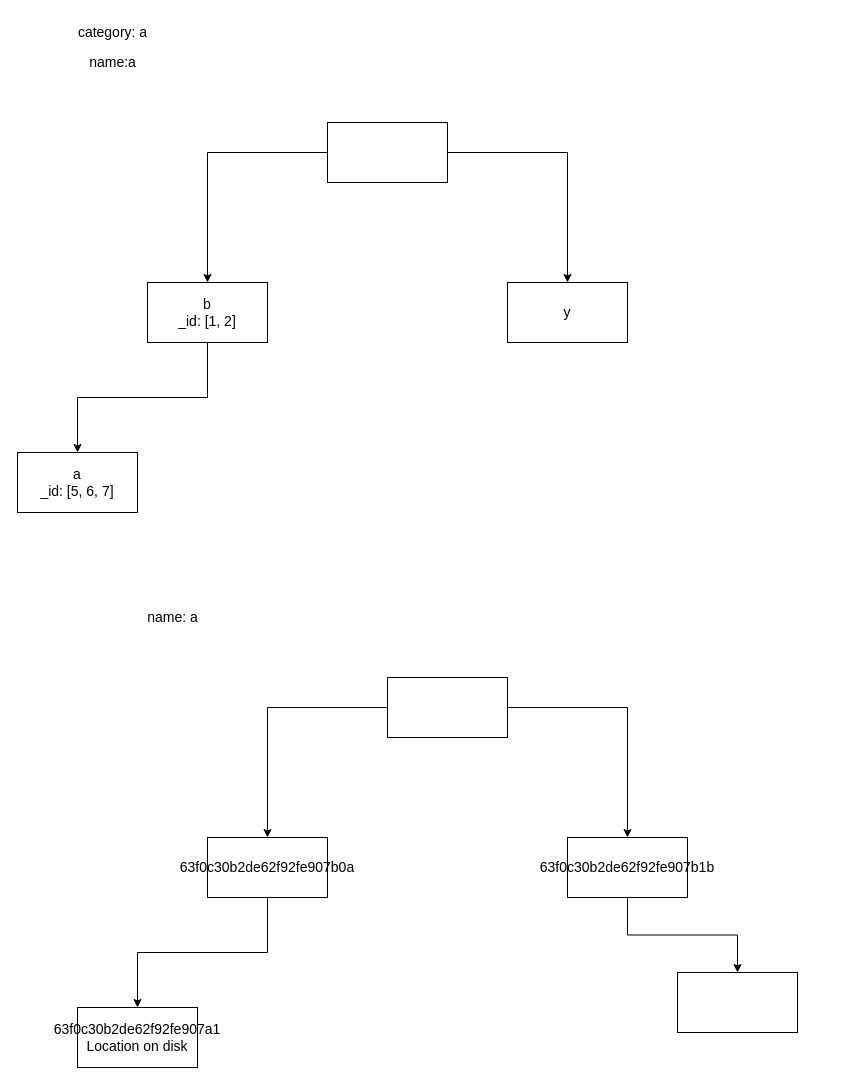
This 842x1085 diagram has some shape labels left out. The centre of each missing label's shape, as x and y in pixels:
63f0c30b2de62f92fe907b1a: the point at 447,707
63f0c30b2de62f92fe907b1c: the point at 737,1002
h _id: 1: the point at 387,152
